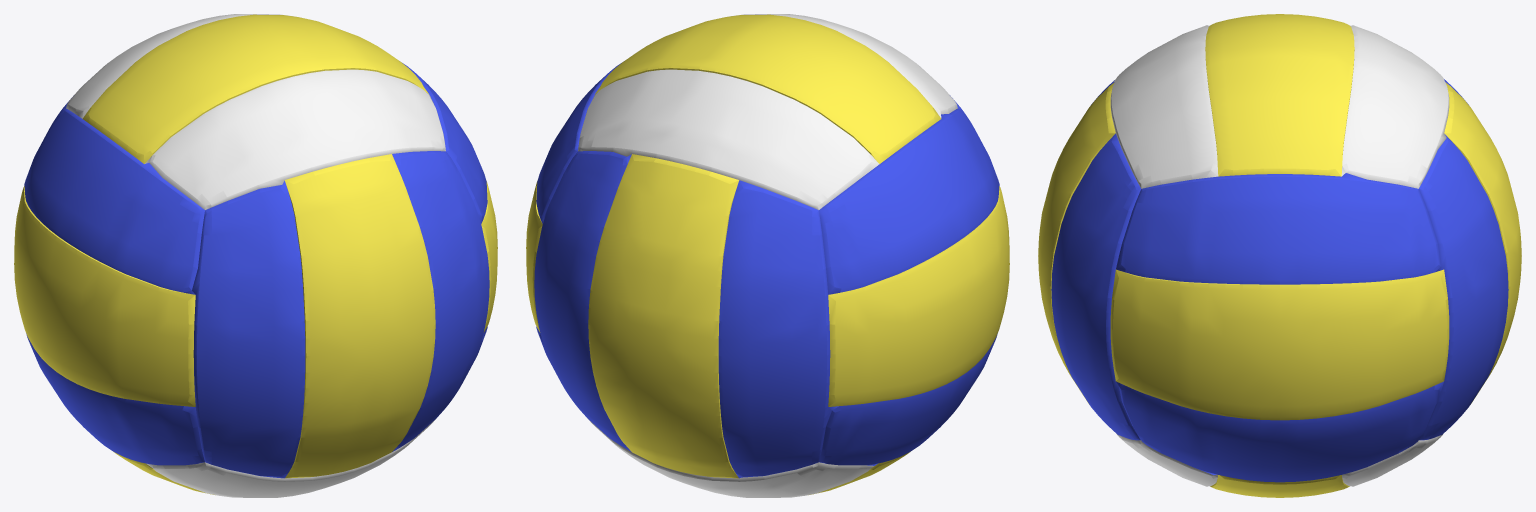
Rendered from Volleyball.fbx.
The picture shows the model from 3 angles, left to right: view 1: azimuth 30°, elevation 25°; view 2: azimuth 150°, elevation 25°; view 3: azimuth 270°, elevation 25°; orthographic projection.
Parts seen in each view (by area): view 1: Volleyball; view 2: Volleyball; view 3: Volleyball.
Boxes of the visible parts, x1,y1,x2,y2 form: Volleyball: (14, 14, 497, 497); Volleyball: (526, 14, 1009, 497); Volleyball: (1038, 14, 1521, 497).
Size of the model in its own units: 5.72 by 5.72 by 5.72.
